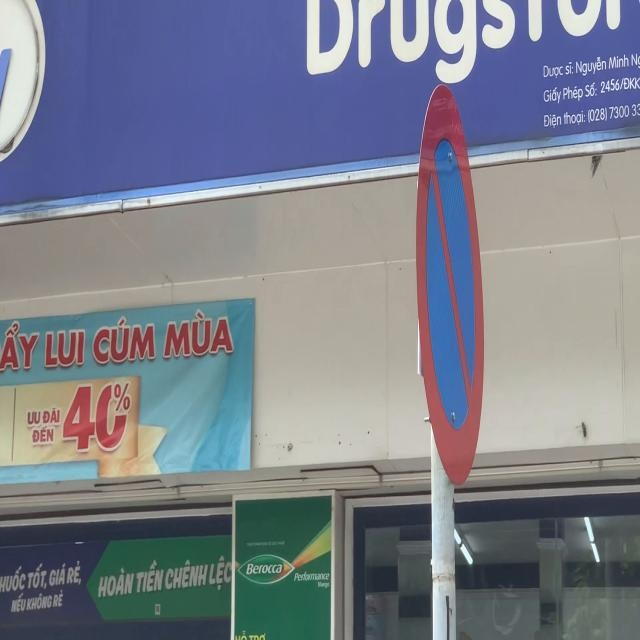bien_cam: (416, 83, 486, 492)
